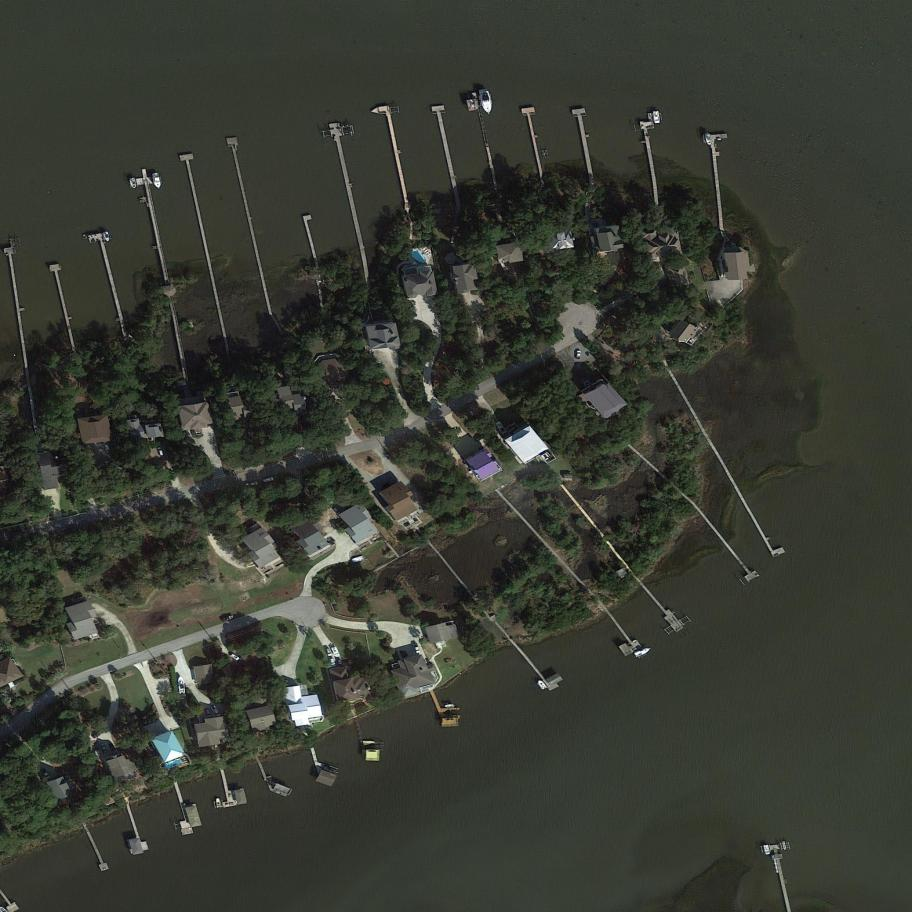ship: (477, 88, 495, 117), (633, 644, 653, 661), (151, 171, 164, 190), (494, 420, 508, 437), (177, 675, 187, 695), (351, 554, 367, 564), (536, 679, 548, 691), (128, 177, 138, 190), (331, 646, 341, 658), (762, 843, 771, 856), (652, 111, 661, 124), (102, 231, 111, 243), (215, 797, 223, 810), (704, 133, 712, 145), (444, 704, 455, 709)
small-vehicle: (210, 704, 223, 718), (229, 652, 241, 662), (412, 642, 421, 655), (262, 476, 275, 484), (100, 743, 108, 755), (245, 481, 258, 488), (336, 657, 344, 667), (329, 657, 337, 667), (325, 647, 332, 658), (157, 446, 164, 457), (575, 350, 582, 360), (205, 709, 212, 718)
